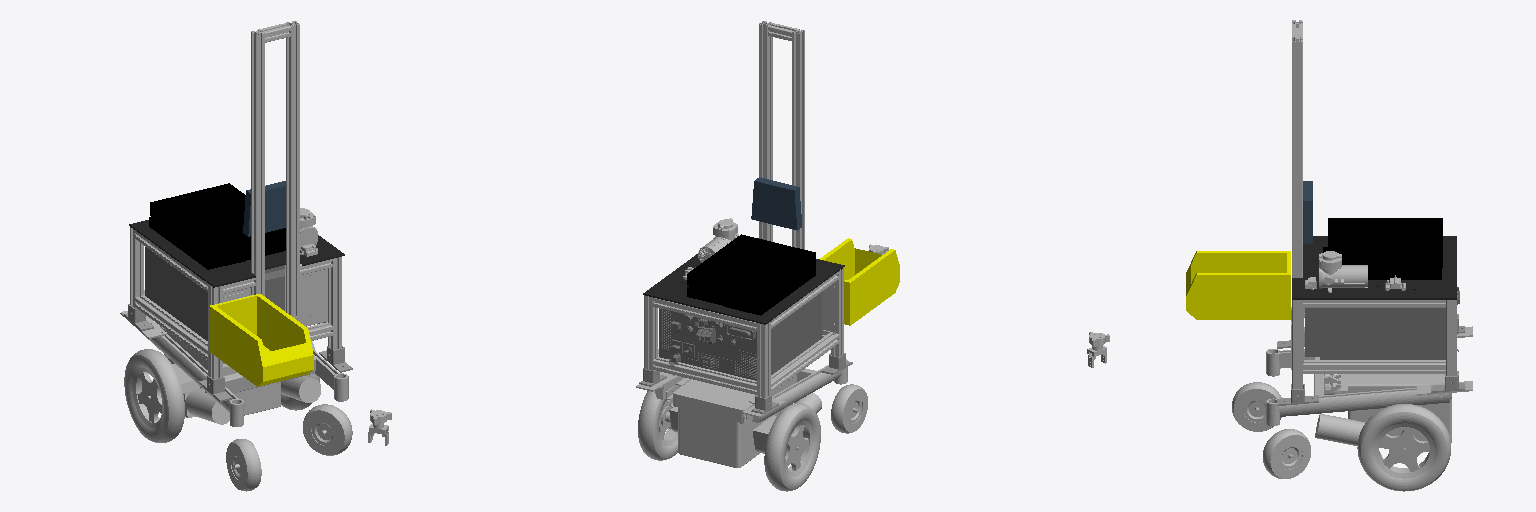
--- What the picture shows (computed from the rendered views, not written in the file) ---
The picture shows the robot from 3 angles, left to right: view 1: azimuth 30°, elevation 25°; view 2: azimuth 150°, elevation 25°; view 3: azimuth 270°, elevation 25°; orthographic projection.
Robot: abby — 38 links, 37 joints (6 revolute, 6 continuous, 2 prismatic, 23 fixed); root link frame1; default pose: all joints at 0 but 2 set to mid-range because 0 is outside their limits (gripper_jaw_1 = -0.0345, gripper_jaw_2 = -0.0345).
Links seen in each view (by area): view 1: frame1, bin, PC1, frame_solid:11, r_drive wheel1, IRC5_Compact1, top_plate1, l_caster_wheel1, r_caster_wheel1, router1, compressor1; view 2: frame1, frame_solid:11, IRC5_Compact1, PC1, r_drive wheel1, bin, top_plate1, router1, l_drive_wheel1, r_caster_wheel1, compressor1; view 3: frame1, frame_solid:11, IRC5_Compact1, bin, PC1, l_drive_wheel1, top_plate1, l_caster_wheel1, r_caster_wheel1, compressor1, router1.
Boxes of the visible links, x1=… form: frame1: x1=130, y1=21, x2=341, y2=378; bin: x1=209, y1=294, x2=313, y2=386; PC1: x1=149, y1=183, x2=285, y2=269; frame_solid:11: x1=144, y1=322, x2=348, y2=426; r_drive wheel1: x1=124, y1=349, x2=184, y2=442; IRC5_Compact1: x1=145, y1=247, x2=314, y2=340; top_plate1: x1=129, y1=220, x2=344, y2=287; l_caster_wheel1: x1=303, y1=404, x2=352, y2=455; r_caster_wheel1: x1=226, y1=439, x2=261, y2=491; router1: x1=243, y1=181, x2=285, y2=236; compressor1: x1=300, y1=208, x2=317, y2=249; frame1: x1=644, y1=21, x2=843, y2=397; frame_solid:11: x1=655, y1=359, x2=847, y2=467; IRC5_Compact1: x1=659, y1=292, x2=821, y2=380; PC1: x1=687, y1=234, x2=815, y2=315; r_drive wheel1: x1=764, y1=403, x2=820, y2=491; bin: x1=820, y1=238, x2=899, y2=325; top_plate1: x1=643, y1=254, x2=844, y2=324; router1: x1=751, y1=177, x2=801, y2=230; l_drive_wheel1: x1=638, y1=391, x2=677, y2=460; r_caster_wheel1: x1=831, y1=384, x2=867, y2=433; compressor1: x1=698, y1=218, x2=738, y2=262; frame1: x1=1291, y1=20, x2=1456, y2=395; frame_solid:11: x1=1266, y1=349, x2=1451, y2=451; IRC5_Compact1: x1=1305, y1=287, x2=1459, y2=359; bin: x1=1186, y1=251, x2=1290, y2=319; PC1: x1=1323, y1=218, x2=1442, y2=279; l_drive_wheel1: x1=1357, y1=404, x2=1450, y2=491; top_plate1: x1=1292, y1=236, x2=1456, y2=299; l_caster_wheel1: x1=1263, y1=429, x2=1310, y2=478; r_caster_wheel1: x1=1232, y1=382, x2=1281, y2=431; compressor1: x1=1319, y1=251, x2=1367, y2=292; router1: x1=1303, y1=181, x2=1312, y2=243.
Bounding box of the posed robot: 0.6308 × 1.41 × 1.72 m (x, y, z).
23 mesh visuals loaded from 29 distinct referenced files (17 binary STL); not drawn: 14 (reference not matched to a file when rendering).

The robot description file, URDF, robot "abby":
<?xml version="1.0" ?>
<!-- =================================================================================== -->
<!-- |    This document was autogenerated by xacro from abby_urdf.xacro                | -->
<!-- |    EDITING THIS FILE BY HAND IS NOT RECOMMENDED                                 | -->
<!-- =================================================================================== -->
<!-- =================================================================================== -->
<!-- |    This document was autogenerated by xacro from abby.xacro                     | -->
<!-- |    EDITING THIS FILE BY HAND IS NOT RECOMMENDED                                 | -->
<!-- =================================================================================== -->
<robot name="abby" xmlns:controller="http://playerstage.sourceforge.net/gazebo/xmlschema/#controller" xmlns:interface="http://playerstage.sourceforge.net/gazebo/xmlschema/#interface" xmlns:sensor="http://playerstage.sourceforge.net/gazebo/xmlschema/#sensor" xmlns:xacro="http://ros.org/wiki/xacro">
  <link name="irb_120_base_link">
    <visual>
      <geometry>
        <mesh filename="package://abb_common/meshes/irb_120/visual/base_link.stl" scale="0.0254 0.0254 0.0254"/>
      </geometry>
      <origin rpy="0 0 0" xyz="0 0 0"/>
      <material name="abb_orange">
        <color rgba="1 0.43 0 1"/>
      </material>
    </visual>
    <collision>
      <geometry>
        <mesh filename="package://abb_common/meshes/irb_120/collision/base_link.stl" scale="0.0254 0.0254 0.0254"/>
      </geometry>
      <origin rpy="0 0 0" xyz="0 0 0"/>
    </collision>
  </link>
  <link name="irb_120_link_1">
    <visual>
      <geometry>
        <mesh filename="package://abb_common/meshes/irb_120/visual/link_1.stl" scale="0.0254 0.0254 0.0254"/>
      </geometry>
      <origin rpy="0 0 0" xyz="0 0 0"/>
      <material name="abb_orange">
        <color rgba="1 0.43 0 1"/>
      </material>
    </visual>
    <collision>
      <geometry>
        <mesh filename="package://abb_common/meshes/irb_120/collision/link_1.stl" scale="0.0254 0.0254 0.0254"/>
      </geometry>
      <origin rpy="0 0 0" xyz="0 0 0"/>
    </collision>
  </link>
  <link name="irb_120_link_2">
    <visual>
      <geometry>
        <mesh filename="package://abb_common/meshes/irb_120/visual/link_2.stl" scale="0.0254 0.0254 0.0254"/>
      </geometry>
      <origin rpy="0 0 0" xyz="0 0.269999754796 0.0574996276953"/>
      <material name="abb_orange">
        <color rgba="1 0.43 0 1"/>
      </material>
    </visual>
    <collision>
      <geometry>
        <mesh filename="package://abb_common/meshes/irb_120/collision/link_2.stl" scale="0.0254 0.0254 0.0254"/>
      </geometry>
      <origin rpy="0 0 0" xyz="0 0.269999754796 0.0574996276953"/>
    </collision>
  </link>
  <link name="irb_120_link_3">
    <visual>
      <geometry>
        <mesh filename="package://abb_common/meshes/irb_120/visual/link_3.stl" scale="0.0254 0.0254 0.0254"/>
      </geometry>
      <origin rpy="0 0 0" xyz="0.071952848745 -0.0661526901756 0"/>
      <material name="abb_orange">
        <color rgba="1 0.43 0 1"/>
      </material>
    </visual>
    <collision>
      <geometry>
        <mesh filename="package://abb_common/meshes/irb_120/collision/link_3.stl" scale="0.0254 0.0254 0.0254"/>
      </geometry>
      <origin rpy="0 0 0" xyz="0.071952848745 -0.0661526901756 0"/>
    </collision>
  </link>
  <link name="irb_120_link_4">
    <visual>
      <geometry>
        <mesh filename="package://abb_common/meshes/irb_120/visual/link_4.stl" scale="0.0254 0.0254 0.0254"/>
      </geometry>
      <origin rpy="0 0 0" xyz="0.302187012 0.00151561224702 -0.000313229561613"/>
      <material name="abb_orange">
        <color rgba="1 0.43 0 1"/>
      </material>
    </visual>
    <collision>
      <geometry>
        <mesh filename="package://abb_common/meshes/irb_120/collision/link_4.stl" scale="0.0254 0.0254 0.0254"/>
      </geometry>
      <origin rpy="0 0 0" xyz="0.302187012 0.00151561224702 0"/>
    </collision>
  </link>
  <link name="irb_120_link_5">
    <visual>
      <geometry>
        <mesh filename="package://abb_common/meshes/irb_120/visual/link_5.stl" scale="0.0254 0.0254 0.0254"/>
      </geometry>
      <origin rpy="0 0 0" xyz="-0.301998488439 -0.629998750685 0"/>
      <material name="abb_orange">
        <color rgba="1 0.43 0 1"/>
      </material>
    </visual>
    <collision>
      <geometry>
        <mesh filename="package://abb_common/meshes/irb_120/collision/link_5.stl" scale="0.0254 0.0254 0.0254"/>
      </geometry>
      <origin rpy="0 0 0" xyz="-0.301998488439 -0.629998750685 0"/>
    </collision>
  </link>
  <link name="irb_120_link_6">
    <visual>
      <geometry>
        <mesh filename="package://abb_common/meshes/irb_120/visual/link_6.stl" scale="0.0254 0.0254 0.0254"/>
      </geometry>
      <origin rpy="0 0 0" xyz="0 0 -0.0130000906507"/>
      <material name="abb_black">
        <color rgba="0 0 0 1"/>
      </material>
    </visual>
    <collision>
      <geometry>
        <mesh filename="package://abb_common/meshes/irb_120/collision/link_6.stl" scale="0.0254 0.0254 0.0254"/>
      </geometry>
      <origin rpy="0 0 0" xyz="0 0 -0.0130000906507"/>
    </collision>
  </link>
  <joint name="joint1" type="revolute">
    <parent link="irb_120_base_link"/>
    <child link="irb_120_link_1"/>
    <limit effort="300" lower="-2.88" upper="2.88" velocity="4.36"/>
    <axis xyz="0 1 0"/>
    <origin rpy="-3.14159265359 3.14159265359 3.14159265359" xyz="0 0 0"/>
  </joint>
  <joint name="joint2" type="revolute">
    <parent link="irb_120_link_1"/>
    <child link="irb_120_link_2"/>
    <limit effort="300" lower="-1.92" upper="1.92" velocity="4.36"/>
    <axis xyz="0 0 1"/>
    <origin rpy="3.14159265359 0 3.14159265359" xyz="0 0.290 0"/>
  </joint>
  <joint name="joint3" type="revolute">
    <parent link="irb_120_link_2"/>
    <child link="irb_120_link_3"/>
    <limit effort="300" lower="-1.575" upper="1.23" velocity="4.36"/>
    <axis xyz="0 0 -1"/>
    <origin rpy="3.14159265359 0 3.14159265359" xyz="0 0.270 0"/>
  </joint>
  <joint name="joint4" type="revolute">
    <parent link="irb_120_link_3"/>
    <child link="irb_120_link_4"/>
    <limit effort="300" lower="-2.80" upper="2.80" velocity="5.58"/>
    <axis xyz="1 0 0"/>
    <origin rpy="0 0 0" xyz="0 0.070 0"/>
  </joint>
  <joint name="joint5" type="revolute">
    <parent link="irb_120_link_4"/>
    <child link="irb_120_link_5"/>
    <limit effort="300" lower="-2.10" upper="2.10" velocity="5.58"/>
    <axis xyz="0 0 -1"/>
    <origin rpy="0 0 0" xyz="0.302 0 0"/>
  </joint>
  <joint name="joint6" type="revolute">
    <parent link="irb_120_link_5"/>
    <child link="irb_120_link_6"/>
    <limit effort="300" lower="-6.985" upper="6.985" velocity="7.33"/>
    <axis xyz="0 0 1"/>
    <origin rpy="-1.5707961734 0 -1.57079621992" xyz="0.072 0 0"/>
  </joint>
  <joint name="base_camera_joint" type="fixed">
    <origin rpy="0 0.8901 -1.570795" xyz="0.04464 -0.59 1.491"/>
    <parent link="frame1"/>
    <origin rpy="0 0 0" xyz="0 0 0"/>
    <child link="camera_link"/>
  </joint>
  <link name="camera_link">
    <inertial>
      <mass value="0.01"/>
      <origin xyz="0 0 0"/>
      <inertia ixx="0.001" ixy="0.0" ixz="0.0" iyy="0.001" iyz="0.0" izz="0.001"/>
    </inertial>
    <visual>
      <origin rpy="0 0 0" xyz=" 0 0 0 "/>
      <geometry>
        <mesh filename="package://cwru_description/meshes/kinect.dae"/>
      </geometry>
    </visual>
    <collision>
      <origin rpy="0 0 0" xyz="0.0 0.0 0.0"/>
      <geometry>
        <box size="0.0730 .2760 0.0720"/>
      </geometry>
    </collision>
  </link>
  <joint name="base_laser_joint" type="fixed">
    <origin rpy="1.5707959092 0 -3.14159265358" xyz="-0.0255468119868 -0.474758386705 0.311455920061"/>
    <parent link="frame1"/>
    <origin rpy="0 0 0" xyz="0 0 0"/>
    <child link="SICK_LMS291"/>
  </joint>
  <link name="SICK_LMS291">
    <visual>
      <geometry>
        <mesh filename="package://cwru_description/meshes/sick_lms291.stl" scale="0.0254 0.0254 0.0254"/>
      </geometry>
      <origin rpy="0 0 0" xyz="-0.0683999139953 -0.00245779587475 -0.0929987962566"/>
      <material name="SICK_LMS2911_color">
        <color rgba="0.752941 0.752941 0.752941 1"/>
      </material>
    </visual>
    <inertial>
      <mass value="3.71737544502"/>
      <inertia ixx="0.0174805834039" ixy="-4.4195210288e-07" ixz="4.1599227461e-07" iyy="0.0127643577208" iyz="0.00072853444335" izz="0.0175041992098"/>
      <origin rpy="0 0 0" xyz="-0.0684016920036 0.0653465146418 -0.0708751847642"/>
    </inertial>
    <collision>
      <geometry>
        <mesh filename="package://cwru_description/meshes/sick_lms291.stl" scale="0.0254 0.0254 0.0254"/>
      </geometry>
      <origin rpy="0 0 0" xyz="-0.0683999139953 -0.00245779587475 -0.0929987962566"/>
    </collision>
  </link>
  <link name="base_laser1_link">
    <inertial>
      <mass value="0.01"/>
      <origin xyz="0 0 0"/>
      <inertia ixx="0.001" ixy="0.0" ixz="0.0" iyy="0.001" iyz="0.0" izz="0.001"/>
    </inertial>
  </link>
  <joint name="SICK_laser_frame_joint" type="fixed">
    <origin rpy="1.266 1.571 2.837" xyz="-0.0683999139953 0.035 -0.0273"/>
    <parent link="SICK_LMS291"/>
    <child link="base_laser1_link"/>
  </joint>
  <link name="frame1">
    <visual>
      <geometry>
        <mesh filename="package://abby_description/meshes/al_frame_iam_3826baa4.stl" scale="0.0254 0.0254 0.0254"/>
      </geometry>
      <origin rpy="0 0 0" xyz="0.0446356739978 0.177065647653 -0.0893087163603"/>
      <material name="frame1_color">
        <color rgba="0.752941 0.752941 0.752941 1"/>
      </material>
    </visual>
    <inertial>
      <mass value="12.7774249075"/>
      <inertia ixx="2.11995607184" ixy="-0.0128393605839" ixz="-0.0068818565379" iyy="1.84586933127" iyz="0.34872380742" izz="1.11710077832"/>
      <origin rpy="0 0 0" xyz="0.0382793240557 -0.271251963735 0.649589084908"/>
    </inertial>
    <collision>
      <geometry>
        <mesh filename="package://abby_description/meshes/al_frame_iam_3826baa4.stl" scale="0.0254 0.0254 0.0254"/>
      </geometry>
      <origin rpy="0 0 0" xyz="0.0446356739978 0.177065647653 -0.0893087163603"/>
    </collision>
  </link>
  <link name="f_r_frame_bracket1">
    <visual>
      <geometry>
        <mesh filename="package://abby_description/meshes/frame bracket_ipt_f5a4f28d.stl" scale="0.0254 0.0254 0.0254"/>
      </geometry>
      <origin rpy="0 0 0" xyz="-0.0946635865578 -0.0205552039632 -0.424782665556"/>
      <material name="f_r_frame_bracket1_color">
        <color rgba="0.639216 0.639216 0.639216 1"/>
      </material>
    </visual>
    <inertial>
      <mass value="0.71440798275"/>
      <inertia ixx="0.00043051877529" ixy="0.0" ixz="-1.18150140291e-05" iyy="0.00109167940213" iyz="0.0" izz="0.00105983757016"/>
      <origin rpy="0 0 0" xyz="-0.0175668955453 0.00484479603152 -0.408054413923"/>
    </inertial>
    <collision>
      <geometry>
        <mesh filename="package://abby_description/meshes/frame bracket_ipt_f5a4f28d.stl" scale="0.0254 0.0254 0.0254"/>
      </geometry>
      <origin rpy="0 0 0" xyz="-0.0946635865578 -0.0205552039632 -0.424782665556"/>
    </collision>
  </link>
  <joint name="frame--f_r_frame_bracket1" type="fixed">
    <parent link="frame1"/>
    <child link="f_r_frame_bracket1"/>
    <origin rpy="0 -0.0938814541614 1.5707963268" xyz="-0.197196963951 -0.46840807491 0.660027160644"/>
  </joint>
  <link name="f_l_frame_bracket1">
    <visual>
      <geometry>
        <mesh filename="package://abby_description/meshes/frame bracket_ipt_f5a4f28d.stl" scale="0.0254 0.0254 0.0254"/>
      </geometry>
      <origin rpy="0 0 0" xyz="-0.050800692836 -0.0508000000121 -0.00634958439213"/>
      <material name="f_l_frame_bracket1_color">
        <color rgba="0.639216 0.639216 0.639216 1"/>
      </material>
    </visual>
    <inertial>
      <mass value="0.71440798275"/>
      <inertia ixx="0.00043051877529" ixy="0.0" ixz="-1.18150140291e-05" iyy="0.00109167940213" iyz="0.0" izz="0.00105983757016"/>
      <origin rpy="0 0 0" xyz="0.026295998169 -0.025399999994 0.0103786672398"/>
    </inertial>
    <collision>
      <geometry>
        <mesh filename="package://abby_description/meshes/frame bracket_ipt_f5a4f28d.stl" scale="0.0254 0.0254 0.0254"/>
      </geometry>
      <origin rpy="0 0 0" xyz="-0.050800692836 -0.0508000000121 -0.00634958439213"/>
    </collision>
  </link>
  <joint name="f_l_frame_bracket--f_r_frame_bracket1" type="fixed">
    <parent link="f_r_frame_bracket1"/>
    <child link="f_l_frame_bracket1"/>
    <origin rpy="0 0 0" xyz="-0.0438628937327 -0.464082383966 -0.418433081198"/>
  </joint>
  <link name="f_l_frame_plate1">
    <visual>
      <geometry>
        <mesh filename="package://abby_description/meshes/front frame plate_ipt_3e5bfe16.stl" scale="0.0254 0.0254 0.0254"/>
      </geometry>
      <origin rpy="0 0 0" xyz="0 0 0"/>
      <material name="f_l_frame_plate1_color">
        <color rgba="0.752941 0.752941 0.752941 1"/>
      </material>
    </visual>
    <inertial>
      <mass value="0.072583397455"/>
      <inertia ixx="0.000139975007751" ixy="0.0" ixz="0.0" iyy="3.5475798236e-05" iyz="0.0" izz="0.000174962980108"/>
      <origin rpy="0 0 0" xyz="0.0380034800186 0.0762017426097 0.00317605933453"/>
    </inertial>
    <collision>
      <geometry>
        <mesh filename="package://abby_description/meshes/front frame plate_ipt_3e5bfe16.stl" scale="0.0254 0.0254 0.0254"/>
      </geometry>
      <origin rpy="0 0 0" xyz="0 0 0"/>
    </collision>
  </link>
  <joint name="f_l_frame_plate--f_l_frame_bracket1" type="fixed">
    <parent link="f_l_frame_bracket1"/>
    <child link="f_l_frame_plate1"/>
    <origin rpy="-3.14159265359 0 1.57079632679" xyz="-0.050800692836 -0.0508000000121 -0.00634958439213"/>
  </joint>
  <link name="f_r_frame_plate1">
    <visual>
      <geometry>
        <mesh filename="package://abby_description/meshes/front frame plate_ipt_3e5bfe16.stl" scale="0.0254 0.0254 0.0254"/>
      </geometry>
      <origin rpy="0 0 0" xyz="-0.0381000000045 -0.0762009322898 -0.00634941359797"/>
      <material name="f_r_frame_plate1_color">
        <color rgba="0.752941 0.752941 0.752941 1"/>
      </material>
    </visual>
    <inertial>
      <mass value="0.072583397455"/>
      <inertia ixx="0.000139975007751" ixy="0.0" ixz="0.0" iyy="3.5475798236e-05" iyz="0.0" izz="0.000174962980108"/>
      <origin rpy="0 0 0" xyz="-9.52500002381e-05 9.97890829302e-07 -0.00317559036918"/>
    </inertial>
    <collision>
      <geometry>
        <mesh filename="package://abby_description/meshes/front frame plate_ipt_3e5bfe16.stl" scale="0.0254 0.0254 0.0254"/>
      </geometry>
      <origin rpy="0 0 0" xyz="-0.0381000000045 -0.0762009322898 -0.00634941359797"/>
    </collision>
  </link>
  <joint name="f_r_frame_plate--f_r_frame_bracket1" type="fixed">
    <parent link="f_r_frame_bracket1"/>
    <child link="f_r_frame_plate1"/>
    <origin rpy="0 0 -1.57079632679" xyz="-0.0184628418291 -0.00785520396718 -0.424783134521"/>
  </joint>
  <link name="b_r_frame_bracket1">
    <visual>
      <geometry>
        <mesh filename="package://abby_description/meshes/short frame bracket_ipt_f5a4f28d.stl" scale="0.0254 0.0254 0.0254"/>
      </geometry>
      <origin rpy="0 0 0" xyz="-0.0774480173821 -0.0263550400145 -0.00822489041407"/>
      <material name="b_r_frame_bracket1_color">
        <color rgba="0.639216 0.639216 0.639216 1"/>
      </material>
    </visual>
    <inertial>
      <mass value="0.71440798275"/>
      <inertia ixx="0.00044432538895" ixy="0.0" ixz="-8.3387205787e-05" iyy="0.00086832128551" iyz="0.0" izz="0.00083243813657"/>
      <origin rpy="0 0 0" xyz="-0.00691246125573 -0.000955040002614 0.00995368760594"/>
    </inertial>
    <collision>
      <geometry>
        <mesh filename="package://abby_description/meshes/short frame bracket_ipt_f5a4f28d.stl" scale="0.0254 0.0254 0.0254"/>
      </geometry>
      <origin rpy="0 0 0" xyz="-0.0774480173821 -0.0263550400145 -0.00822489041407"/>
    </collision>
  </link>
  <joint name="frame--b_r_frame_bracket1" type="fixed">
    <parent link="frame1"/>
    <child link="b_r_frame_bracket1"/>
    <origin rpy="0 -0.0938814541614 1.57079632654" xyz="-0.202996799965 0.113567247403 0.29642350598"/>
  </joint>
  <link name="b_r_frame_plate1">
    <visual>
      <geometry>
        <mesh filename="package://abby_description/meshes/back frame plate_ipt_475e4947.stl" scale="0.0254 0.0254 0.0254"/>
      </geometry>
      <origin rpy="0 0 0" xyz="-0.0254000000255 -0.126998971214 1.58112569598e-06"/>
      <material name="b_r_frame_plate1_color">
        <color rgba="0.752941 0.752941 0.752941 1"/>
      </material>
    </visual>
    <inertial>
      <mass value="0.0971640215777"/>
      <inertia ixx="0.0003344255636" ixy="8.4155085275e-07" ixz="0.0" iyy="4.7517225512e-05" iyz="0.0" izz="0.00038129137915"/>
      <origin rpy="0 0 0" xyz="0.0126431039946 -0.025550836608 0.00317565745359"/>
    </inertial>
    <collision>
      <geometry>
        <mesh filename="package://abby_description/meshes/back frame plate_ipt_475e4947.stl" scale="0.0254 0.0254 0.0254"/>
      </geometry>
      <origin rpy="0 0 0" xyz="-0.0254000000255 -0.126998971214 1.58112569598e-06"/>
    </collision>
  </link>
  <joint name="b_r_frame_plate--b_r_frame_bracket1" type="fixed">
    <parent link="b_r_frame_bracket1"/>
    <child link="b_r_frame_plate1"/>
    <origin rpy="3.14159265359 0 -1.57079632679" xyz="-0.0520471238425 -0.000955040009423 -0.00822349691669"/>
  </joint>
  <link name="IRC5_Compact1">
    <visual>
      <geometry>
        <mesh filename="package://abby_description/meshes/irc5_compact_ipt_c844072c.stl" scale="0.0254 0.0254 0.0254"/>
      </geometry>
      <origin rpy="0 0 0" xyz="-0.000849884100615 0.0283509919265 -0.462400284136"/>
      <material name="IRC5_Compact1_color">
        <color rgba="0.498039 0.498039 0.498039 1"/>
      </material>
    </visual>
    <inertial>
      <mass value="28.440241599"/>
      <inertia ixx="0.75499468089" ixy="-0.00122306756239" ixz="-0.00124304296401" iyy="1.08063235538" iyz="-0.0064925615368" izz="0.61093241216"/>
      <origin rpy="0 0 0" xyz="-0.225686620068 0.151686511222 -0.249482492333"/>
    </inertial>
    <collision>
      <geometry>
        <mesh filename="package://abby_description/meshes/irc5_compact_ipt_c844072c.stl" scale="0.0254 0.0254 0.0254"/>
      </geometry>
      <origin rpy="0 0 0" xyz="-0.000849884100615 0.0283509919265 -0.462400284136"/>
    </collision>
  </link>
  <joint name="frame--IRC5_Compact1" type="fixed">
    <parent link="frame1"/>
    <child link="IRC5_Compact1"/>
    <origin rpy="1.5707959092 0 3.14159265334" xyz="-0.18299683996 0.0935673788127 0.353829950251"/>
  </joint>
  <link name="router1">
    <visual>
      <geometry>
        <mesh filename="package://abby_description/meshes/router keepout_ipt_2b3ba7b4.stl" scale="0.0254 0.0254 0.0254"/>
      </geometry>
      <origin rpy="0 0 0" xyz="0.0783000719655 0.725341498268 -1.11194969221e-06"/>
      <material name="router1_color">
        <color rgba="0.25098 0.321569 0.392157 1"/>
      </material>
    </visual>
    <inertial>
      <mass value="0.28349523125"/>
      <inertia ixx="0.00067729370465" ixy="0.0" ixz="0.0" iyy="0.0008954399563" iyz="0.0" izz="0.00150414540089"/>
      <origin rpy="0 0 0" xyz="0.0783000719663 0.727175853591 0.0190494073449"/>
    </inertial>
    <collision>
      <geometry>
        <mesh filename="package://abby_description/meshes/router keepout_ipt_2b3ba7b4.stl" scale="0.0254 0.0254 0.0254"/>
      </geometry>
      <origin rpy="0 0 0" xyz="0.0783000719655 0.725341498268 -1.11194969221e-06"/>
    </collision>
  </link>
  <joint name="frame--router1" type="fixed">
    <parent link="frame1"/>
    <child link="router1"/>
    <origin rpy="-1.5707959092 0 0" xyz="-0.0354469698523 -0.430316747951 1.61002981286"/>
  </joint>
  <link name="base_plate1">
    <visual>
      <geometry>
        <mesh filename="package://abby_description/meshes/base plate_iam_348b8023.stl" scale="0.0254 0.0254 0.0254"/>
      </geometry>
      <origin rpy="0 0 0" xyz="-0.296284250178 -0.709693779926 -0.581261979343"/>
      <material name="base_plate1_color">
        <color rgba="0.752941 0.752941 0.752941 1"/>
      </material>
    </visual>
    <inertial>
      <mass value="11.253309185"/>
      <inertia ixx="0.192702049774" ixy="-0.0128927375727" ixz="-0.00057983680454" iyy="0.235790506928" iyz="0.002976996201" izz="0.41200655867"/>
      <origin rpy="0 0 0" xyz="-0.259429264405 -0.197794168785 -0.0311541484255"/>
    </inertial>
    <collision>
      <geometry>
        <mesh filename="package://abby_description/meshes/base plate_iam_348b8023.stl" scale="0.0254 0.0254 0.0254"/>
      </geometry>
      <origin rpy="0 0 0" xyz="-0.296284250178 -0.709693779926 -0.581261979343"/>
    </collision>
  </link>
  <joint name="frame--base_plate1" type="fixed">
    <parent link="frame1"/>
    <child link="base_plate1"/>
    <origin rpy="0 0 1.5707963268" xyz="-0.182996839959 0.0950674391444 0.365829741316"/>
  </joint>
  <link name="top_plate1">
    <visual>
      <geometry>
        <mesh filename="package://abby_description/meshes/top plate_ipt_9041f1eb.stl" scale="0.0254 0.0254 0.0254"/>
      </geometry>
      <origin rpy="0 0 0" xyz="-0.039999919998 -0.0370003177082 -0.00635046315153"/>
      <material name="top_plate1_color">
        <color rgba="0.2 0.2 0.2 1"/>
      </material>
    </visual>
    <inertial>
      <mass value="2.41906254029"/>
      <inertia ixx="0.070476646621" ixy="-3.2774173452e-05" ixz="0.0" iyy="0.05993791034" iyz="0.0" izz="0.130398461926"/>
      <origin rpy="0 0 0" xyz="0.229580439988 0.257942378411 -0.00317445298106"/>
    </inertial>
    <collision>
      <geometry>
        <mesh filename="package://abby_description/meshes/top plate_ipt_9041f1eb.stl" scale="0.0254 0.0254 0.0254"/>
      </geometry>
      <origin rpy="0 0 0" xyz="-0.039999919998 -0.0370003177082 -0.00635046315153"/>
    </collision>
  </link>
  <joint name="frame--top_plate1" type="fixed">
    <parent link="frame1"/>
    <child link="top_plate1"/>
    <origin rpy="-3.14159265359 0 0" xyz="-0.182996839929 0.0965675138916 0.656087848989"/>
  </joint>
  <link name="main_breaker1">
    <visual>
      <geometry>
        <mesh filename="package://abby_description/meshes/breaker_iam_746c8f85.stl" scale="0.0254 0.0254 0.0254"/>
      </geometry>
      <origin rpy="0 0 0" xyz="-0.0160837880011 -0.0289106364367 0.00508056290676"/>
      <material name="main_breaker1_color">
        <color rgba="0.752941 0.752941 0.752941 1"/>
      </material>
    </visual>
    <inertial>
      <mass value="0.0936536702263"/>
      <inertia ixx="3.6925814571e-05" ixy="-4.3535021216e-06" ixz="1.05382973255e-07" iyy="2.44166070505e-05" iyz="-2.55254379072e-12" izz="4.8649438065e-05"/>
      <origin rpy="0 0 0" xyz="-0.0161287460005 -0.0289109627394 0.0153385723229"/>
    </inertial>
    <collision>
      <geometry>
        <mesh filename="package://abby_description/meshes/breaker_iam_746c8f85.stl" scale="0.0254 0.0254 0.0254"/>
      </geometry>
      <origin rpy="0 0 0" xyz="-0.0160837880011 -0.0289106364367 0.00508056290676"/>
    </collision>
  </link>
  <joint name="main_breaker--top_plate1" type="fixed">
    <parent link="top_plate1"/>
    <child link="main_breaker1"/>
    <origin rpy="3.14159265359 0 0" xyz="0.426298867993 0.159767684312 -0.00635046455001"/>
  </joint>
  <link name="compressor1">
    <visual>
      <geometry>
        <mesh filename="package://abby_description/meshes/compressor_iam_e870b89.stl" scale="0.0254 0.0254 0.0254"/>
      </geometry>
      <origin rpy="0 0 0" xyz="0.217095026073 0.0541649919903 0.058507418554"/>
      <material name="compressor1_color">
        <color rgba="0.752941 0.752941 0.752941 1"/>
      </material>
    </visual>
    <inertial>
      <mass value="2.12621423437"/>
      <inertia ixx="-0.0061140063136" ixy="0.0073422915937" ixz="0.0121866630191" iyy="-0.0247184035886" iyz="0.0043080263318" izz="-0.0223276763534"/>
      <origin rpy="0 0 0" xyz="0.0555649192101 -0.000189230004887 -0.0360164073274"/>
    </inertial>
    <collision>
      <geometry>
        <mesh filename="package://abby_description/meshes/compressor_iam_e870b89.stl" scale="0.0254 0.0254 0.0254"/>
      </geometry>
      <origin rpy="0 0 0" xyz="0.217095026073 0.0541649919903 0.058507418554"/>
    </collision>
  </link>
  <joint name="compressor--top_plate1" type="fixed">
    <parent link="top_plate1"/>
    <child link="compressor1"/>
    <origin rpy="2.35090778551e-05 1.5707959092 1.57081983614" xyz="0.40450007998 0.426550996313 -0.00635023492284"/>
  </joint>
  <link name="PC1">
    <visual>
      <geometry>
        <mesh filename="package://abby_description/meshes/pc_ipt_a7ade237.stl" scale="0.0254 0.0254 0.0254"/>
      </geometry>
      <origin rpy="0 0 0" xyz="0 -0.095249567657 -1.9383533062e-07"/>
      <material name="PC1_color">
        <color rgba="0 0 0 1"/>
      </material>
    </visual>
    <inertial>
      <mass value="13.0796535036"/>
      <inertia ixx="0.199045542023" ixy="0.000104306361732" ixz="0.00061701926176" iyy="0.3078833877" iyz="0.000148148651798" izz="0.128774326576"/>
      <origin rpy="0 0 0" xyz="0.164833477815 -0.0476494270341 0.207873207523"/>
    </inertial>
    <collision>
      <geometry>
        <mesh filename="package://abby_description/meshes/pc_ipt_a7ade237.stl" scale="0.0254 0.0254 0.0254"/>
      </geometry>
      <origin rpy="0 0 0" xyz="0 -0.095249567657 -1.9383533062e-07"/>
    </collision>
  </link>
  <joint name="PC--top_plate1" type="fixed">
    <parent link="top_plate1"/>
    <child link="PC1"/>
    <origin rpy="1.57079674439 0 0" xyz="0.0108000799797 0.436074033464 -0.00635125529283"/>
  </joint>
  <link name="spike_relay1">
    <visual>
      <geometry>
        <mesh filename="package://abby_description/meshes/spike h_iam_f19c9874.stl" scale="0.0254 0.0254 0.0254"/>
      </geometry>
      <origin rpy="0 0 0" xyz="0.165495388905 -0.231988605905 -4.80033572003e-07"/>
      <material name="spike_relay1_color">
        <color rgba="0.752941 0.752941 0.752941 1"/>
      </material>
    </visual>
    <inertial>
      <mass value="0.02553552678"/>
      <inertia ixx="4.8431130863e-06" ixy="-7.8309953837e-09" ixz="-2.27668366993e-09" iyy="8.2511635883e-06" iyz="-1.99978761416e-07" izz="1.02136458377e-05"/>
      <origin rpy="0 0 0" xyz="0.16538182583 -0.230617385381 0.00965819617544"/>
    </inertial>
    <collision>
      <geometry>
        <mesh filename="package://abby_description/meshes/spike h_iam_f19c9874.stl" scale="0.0254 0.0254 0.0254"/>
      </geometry>
      <origin rpy="0 0 0" xyz="0.165495388905 -0.231988605905 -4.80033572003e-07"/>
    </collision>
  </link>
  <joint name="top_plate--spike_relay1" type="fixed">
    <parent link="top_plate1"/>
    <child link="spike_relay1"/>
    <origin rpy="3.14159264636 0 0.00520380555278" xyz="0.229875079988 0.264625478066 -0.00635030519039"/>
  </joint>
  <link name="b_l_frame_bracket1">
    <visual>
      <geometry>
        <mesh filename="package://abby_description/meshes/short frame bracket_ipt_f5a4f28d.stl" scale="0.0254 0.0254 0.0254"/>
      </geometry>
      <origin rpy="0 0 0" xyz="-0.0635428211507 -0.00444500001769 -0.0603982600527"/>
      <material name="b_l_frame_bracket1_color">
        <color rgba="0.639216 0.639216 0.639216 1"/>
      </material>
    </visual>
    <inertial>
      <mass value="0.71440798275"/>
      <inertia ixx="0.00044432538895" ixy="0.0" ixz="-8.3387205787e-05" iyy="0.00086832128551" iyz="0.0" izz="0.00083243813657"/>
      <origin rpy="0 0 0" xyz="0.00699273497077 0.020955000008 -0.0422196820327"/>
    </inertial>
    <collision>
      <geometry>
        <mesh filename="package://abby_description/meshes/short frame bracket_ipt_f5a4f28d.stl" scale="0.0254 0.0254 0.0254"/>
      </geometry>
      <origin rpy="0 0 0" xyz="-0.0635428211507 -0.00444500001769 -0.0603982600527"/>
    </collision>
  </link>
  <joint name="b_l_frame_bracket--frame1" type="fixed">
    <parent link="frame1"/>
    <child link="b_l_frame_bracket1"/>
    <origin rpy="0 -0.0938814541614 1.57079632635" xyz="0.313240420039 0.0948323645811 0.347063600205"/>
  </joint>
  <link name="b_l_frame_plate1">
    <visual>
      <geometry>
        <mesh filename="package://abby_description/meshes/back frame plate_ipt_475e4947.stl" scale="0.0254 0.0254 0.0254"/>
      </geometry>
      <origin rpy="0 0 0" xyz="0 0 0"/>
      <material name="b_l_frame_plate1_color">
        <color rgba="0.752941 0.752941 0.752941 1"/>
      </material>
    </visual>
    <inertial>
      <mass value="0.0971640215777"/>
      <inertia ixx="0.0003344255636" ixy="8.4155085275e-07" ixz="0.0" iyy="4.7517225512e-05" iyz="0.0" izz="0.00038129137915"/>
      <origin rpy="0 0 0" xyz="0.0380441199796 0.101448124476 0.00317600333501"/>
    </inertial>
    <collision>
      <geometry>
        <mesh filename="package://abby_description/meshes/back frame plate_ipt_475e4947.stl" scale="0.0254 0.0254 0.0254"/>
      </geometry>
      <origin rpy="0 0 0" xyz="0 0 0"/>
    </collision>
  </link>
  <joint name="b_l_frame_plate--b_l_frame_bracket1" type="fixed">
    <parent link="b_l_frame_bracket1"/>
    <child link="b_l_frame_plate1"/>
    <origin rpy="0 0 1.57079632699" xyz="0.0888570334677 -0.00444499995661 -0.0667485273456"/>
  </joint>
  <link name="frame_solid:11">
    <visual>
      <geometry>
        <mesh filename="package://abby_description/meshes/frame_solid_iam_8d469021.stl" scale="0.0254 0.0254 0.0254"/>
      </geometry>
      <origin rpy="0 0 0" xyz="-3.47155770013 -0.38147033036 2.30808809655"/>
      <material name="frame_solid:11_color">
        <color rgba="0.752941 0.752941 0.752941 1"/>
      </material>
    </visual>
    <inertial>
      <mass value="76.9265443978"/>
      <inertia ixx="-0.199581653007" ixy="-0.082679316884" ixz="0.0112391336768" iyy="2.03829571699" iyz="-0.249221082043" izz="-0.62699233072"/>
      <origin rpy="0 0 0" xyz="-0.250028710016 -0.128949655059 0.228101121891"/>
    </inertial>
    <collision>
      <geometry>
        <mesh filename="package://abby_description/meshes/frame_solid_iam_8d469021.stl" scale="0.0254 0.0254 0.0254"/>
      </geometry>
      <origin rpy="0 0 0" xyz="-3.47155770013 -0.38147033036 2.30808809655"/>
    </collision>
  </link>
  <joint name="b_l_frame_plate--frame_solid:11" type="fixed">
    <parent link="b_l_frame_plate1"/>
    <child link="frame_solid:11"/>
    <origin rpy="1.47691420527 0 -3.14159265334" xyz="0.0380441199796 0.101448124476 0.00317600333501"/>
  </joint>
  <link name="l_caster1">
    <visual>
      <geometry>
        <mesh filename="package://abby_description/meshes/caster_ipt_ca03a3d7.stl" scale="0.0254 0.0254 0.0254"/>
      </geometry>
      <origin rpy="0 0 0" xyz="8.42753967015e-07 -0.13652463702 -0.0253998728835"/>
      <material name="l_caster1_color">
        <color rgba="0 0 0 1"/>
      </material>
    </visual>
    <inertial>
      <mass value="0.141176996424"/>
      <inertia ixx="0.00051323847608" ixy="0.0" ixz="0.0" iyy="0.00026112292147" iyz="0.000151341028831" izz="0.00058482333902"/>
      <origin rpy="0 0 0" xyz="-2.95905491936e-07 -0.0595480601633 0.018131413861"/>
    </inertial>
    <collision>
      <geometry>
        <mesh filename="package://abby_description/meshes/caster_ipt_ca03a3d7.stl" scale="0.0254 0.0254 0.0254"/>
      </geometry>
      <origin rpy="0 0 0" xyz="8.42753967015e-07 -0.13652463702 -0.0253998728835"/>
    </collision>
  </link>
  <joint name="l_caster_joint" type="continuous">
    <parent link="frame_solid:11"/>
    <child link="l_caster1"/>
    <axis xyz="0 1 0"/>
    <origin rpy="3.14159154933 -0.529419117266 -3.1415922637" xyz="-0.016388080036 -0.149221796489 0.625818601504"/>
  </joint>
  <link name="l_caster_wheel1">
    <visual>
      <geometry>
        <mesh filename="package://abby_description/meshes/caster wheel_ipt_4784d7d8.stl" scale="0.0254 0.0254 0.0254"/>
      </geometry>
      <origin rpy="0 0 0" xyz="-1.18418908775e-06 -0.0380989161968 -1.67691861175e-06"/>
      <material name="l_caster_wheel1_color">
        <color rgba="0.752941 0.752941 0.752941 1"/>
      </material>
    </visual>
    <inertial>
      <mass value="1.4177347039"/>
      <inertia ixx="0.0034966317219" ixy="0.0" ixz="0.0" iyy="0.0063467697834" iyz="0.0" izz="0.0034966317219"/>
      <origin rpy="0 0 0" xyz="-1.18418908775e-06 -0.0380989161968 -1.67691861175e-06"/>
    </inertial>
    <collision>
      <geometry>
        <mesh filename="package://abby_description/meshes/caster wheel_ipt_4784d7d8.stl" scale="0.0254 0.0254 0.0254"/>
      </geometry>
      <origin rpy="0 0 0" xyz="-1.18418908775e-06 -0.0380989161968 -1.67691861175e-06"/>
    </collision>
  </link>
  <joint name="l_caster_wheel_joint" type="continuous">
    <parent link="l_caster1"/>
    <child link="l_caster_wheel1"/>
    <axis xyz="0 1 0"/>
    <origin rpy="6.29554520079e-07 -0.0978245101151 -1.57079646214" xyz="0.0374386651859 -0.136525432368 0.0571509283666"/>
  </joint>
  <link name="r_caster1">
    <visual>
      <geometry>
        <mesh filename="package://abby_description/meshes/caster_ipt_ca03a3d7.stl" scale="0.0254 0.0254 0.0254"/>
      </geometry>
      <origin rpy="0 0 0" xyz="-1.44488080778e-07 -0.136524926369 -0.0254000128924"/>
      <material name="r_caster1_color">
        <color rgba="0 0 0 1"/>
      </material>
    </visual>
    <inertial>
      <mass value="0.141176996424"/>
      <inertia ixx="0.00051323847608" ixy="0.0" ixz="0.0" iyy="0.00026112292147" iyz="0.000151341028831" izz="0.00058482333902"/>
      <origin rpy="0 0 0" xyz="1.20291708094e-07 -0.0595479590544 0.0181329136137"/>
    </inertial>
    <collision>
      <geometry>
        <mesh filename="package://abby_description/meshes/caster_ipt_ca03a3d7.stl" scale="0.0254 0.0254 0.0254"/>
      </geometry>
      <origin rpy="0 0 0" xyz="-1.44488080778e-07 -0.136524926369 -0.0254000128924"/>
    </collision>
  </link>
  <joint name="r_caster_joint" type="continuous">
    <parent link="frame_solid:11"/>
    <child link="r_caster1"/>
    <axis xyz="0 1 0"/>
    <origin rpy="0 -0.0645005439914 0" xyz="-0.446765426036 -0.149221796474 0.625818601482"/>
  </joint>
  <link name="r_caster_wheel1">
    <visual>
      <geometry>
        <mesh filename="package://abby_description/meshes/caster wheel_ipt_4784d7d8.stl" scale="0.0254 0.0254 0.0254"/>
      </geometry>
      <origin rpy="0 0 0" xyz="-1.43565576272e-06 -0.0380999206774 0"/>
      <material name="r_caster_wheel1_color">
        <color rgba="0.752941 0.752941 0.752941 1"/>
      </material>
    </visual>
    <inertial>
      <mass value="1.4177347039"/>
      <inertia ixx="0.0034966317219" ixy="0.0" ixz="0.0" iyy="0.0063467697834" iyz="0.0" izz="0.0034966317219"/>
      <origin rpy="0 0 0" xyz="-1.43565576272e-06 -0.0380999206774 0"/>
    </inertial>
    <collision>
      <geometry>
        <mesh filename="package://abby_description/meshes/caster wheel_ipt_4784d7d8.stl" scale="0.0254 0.0254 0.0254"/>
      </geometry>
      <origin rpy="0 0 0" xyz="-1.43565576272e-06 -0.0380999206774 0"/>
    </collision>
  </link>
  <joint name="r_caster_wheel_joint" type="continuous">
    <parent link="r_caster1"/>
    <child link="r_caster_wheel1"/>
    <axis xyz="0 1 0"/>
    <origin rpy="-2.44191411285e-07 0.632428512243 -1.570796684" xyz="0.0374395826544 -0.13652471423 0.0571493788518"/>
  </joint>
  <link name="l_drive_wheel1">
    <visual>
      <geometry>
        <mesh filename="package://abby_description/meshes/wheel_ipt_982fa4fe.stl" scale="0.0254 0.0254 0.0254"/>
      </geometry>
      <origin rpy="0 0 0" xyz="0 0 0"/>
      <material name="l_drive_wheel1_color">
        <color rgba="0.752941 0.752941 0.752941 1"/>
      </material>
    </visual>
    <inertial>
      <mass value="3.52668067675"/>
      <inertia ixx="0.032456077033" ixy="0.0" ixz="0.0" iyy="0.062503458919" iyz="0.0" izz="0.032456077033"/>
      <origin rpy="0 0 0" xyz="0 -0.00071882 0"/>
    </inertial>
    <collision>
      <geometry>
        <mesh filename="package://abby_description/meshes/wheel_ipt_982fa4fe.stl" scale="0.0254 0.0254 0.0254"/>
      </geometry>
      <origin rpy="0 0 0" xyz="0 0 0"/>
    </collision>
  </link>
  <joint name="l_drive_wheel_joint" type="continuous">
    <parent link="frame_solid:11"/>
    <child link="l_drive_wheel1"/>
    <axis xyz="0 -1 0"/>
    <origin rpy="0 -0.119809660819 1.57079632679" xyz="0.0466801199851 -0.217162738547 0.147715939724"/>
  </joint>
  <link name="r_drive wheel1">
    <visual>
      <geometry>
        <mesh filename="package://abby_description/meshes/wheel_ipt_982fa4fe.stl" scale="0.0254 0.0254 0.0254"/>
      </geometry>
      <origin rpy="0 0 0" xyz="0 0 0"/>
      <material name="r_drive wheel1_color">
        <color rgba="0.752941 0.752941 0.752941 1"/>
      </material>
    </visual>
    <inertial>
      <mass value="3.52668067675"/>
      <inertia ixx="0.032456077033" ixy="0.0" ixz="0.0" iyy="0.062503458919" iyz="0.0" izz="0.032456077033"/>
      <origin rpy="0 0 0" xyz="0 -0.000718058 0"/>
    </inertial>
    <collision>
      <geometry>
        <mesh filename="package://abby_description/meshes/wheel_ipt_982fa4fe.stl" scale="0.0254 0.0254 0.0254"/>
      </geometry>
      <origin rpy="0 0 0" xyz="0 0 0"/>
    </collision>
  </link>
  <joint name="r_drive_wheel_joint" type="continuous">
    <parent link="frame_solid:11"/>
    <child link="r_drive wheel1"/>
    <axis xyz="0 1 0"/>
    <origin rpy="0 -0.443332433305 -1.57079632679" xyz="-0.509833626015 -0.217162738527 0.147715939697"/>
  </joint>
  <link name="bin">
    <visual>
      <geometry>
        <mesh filename="package://abby_description/meshes/bin_ipt.stl" scale="0.0254 0.0254 0.0254"/>
      </geometry>
      <origin rpy="0 0 0" xyz="0 0 0"/>
      <material name="yellow bin plastic">
        <color rgba="0.98 0.98 0 1"/>
      </material>
    </visual>
    <inertial>
      <mass value="4.36697868587"/>
      <inertia ixx="0.044427271429" ixy="0.00203259222186" ixz="-1.69295186692e-05" iyy="0.100418971824" iyz="3.3400709269e-06" izz="0.080242528585"/>
      <origin rpy="0 0 0" xyz="0.17978882 -0.0977169394 0.104752255"/>
    </inertial>
    <collision>
      <geometry>
        <mesh filename="package://abby_description/meshes/bin_ipt.stl" scale="0.0254 0.0254 0.0254"/>
      </geometry>
      <origin rpy="0 0 0" xyz="0 0 0"/>
    </collision>
  </link>
  <joint name="frame-bin" type="fixed">
    <parent link="frame1"/>
    <child link="bin"/>
    <origin rpy="1.57079619722 0 -1.57079632679" xyz="-0.035 -0.474758386705 0.592669"/>
  </joint>
  <link name="gripper_body">
    <visual>
      <geometry>
        <mesh filename="package://abby_description/meshes/gripper_body.stl" scale="0.0254 0.0254 0.0254"/>
      </geometry>
      <origin rpy="3.141592653 0 0" xyz="0 0 0.017"/>
      <material name="gripper:21_color">
        <color rgba="0.752941 0.752941 0.752941 1"/>
      </material>
    </visual>
    <inertial>
      <mass value="0.222800943405"/>
      <inertia ixx="0.000113884956016" ixy="0.0" ixz="0.0" iyy="0.000132512764251" iyz="-4.2661207134e-07" izz="9.078477651e-05"/>
      <origin rpy="3.141592653 0 0" xyz="0 0 0.013255"/>
    </inertial>
    <collision>
      <geometry>
        <mesh filename="package://abby_description/meshes/gripper_body.stl" scale="0.0254 0.0254 0.0254"/>
      </geometry>
      <origin rpy="3.141592653 0 0" xyz="0 0 0.017"/>
    </collision>
  </link>
  <link name="gripper_jaw_1">
    <visual>
      <geometry>
        <mesh filename="package://abby_description/meshes/gripper_jaw.stl" scale="0.0254 0.0254 0.0254"/>
      </geometry>
      <origin rpy="1.570796327 0 0" xyz="0 0.0127 0"/>
      <material name="gripper jaw:11_color">
        <color rgba="0.752941 0.752941 0.752941 1"/>
      </material>
    </visual>
    <inertial>
      <mass value="0.00921754126924"/>
      <inertia ixx="2.06132039615e-06" ixy="3.0409666492e-07" ixz="0.0" iyy="8.2195587923e-07" iyz="0.0" izz="1.7163745324e-06"/>
      <origin rpy="0 0 0" xyz="0.006162341 0.03123184 0.0127004023"/>
    </inertial>
    <collision>
      <geometry>
        <mesh filename="package://abby_description/meshes/gripper_jaw.stl" scale="0.0254 0.0254 0.0254"/>
      </geometry>
      <origin rpy="1.570796327 0 0" xyz="0 0.0127 0"/>
    </collision>
  </link>
  <link name="gripper_jaw_2">
    <visual>
      <geometry>
        <mesh filename="package://abby_description/meshes/gripper_jaw.stl" scale="0.0254 0.0254 0.0254"/>
      </geometry>
      <origin rpy="1.570796327 0 0" xyz="0 0.0127 0"/>
      <material name="gripper jaw:11_color">
        <color rgba="0.752941 0.752941 0.752941 1"/>
      </material>
    </visual>
    <inertial>
      <mass value="0.00921754126924"/>
      <inertia ixx="2.06132039615e-06" ixy="3.0409666492e-07" ixz="0.0" iyy="8.2195587923e-07" iyz="0.0" izz="1.7163745324e-06"/>
      <origin rpy="0 0 0" xyz="0.006162341 0.03123184 0.0127004023"/>
    </inertial>
    <collision>
      <geometry>
        <mesh filename="package://abby_description/meshes/gripper_jaw.stl" scale="0.0254 0.0254 0.0254"/>
      </geometry>
      <origin rpy="1.570796327 0 0" xyz="0 0.0127 0"/>
    </collision>
  </link>
  <joint name="gripper_jaw_1" type="prismatic">
    <parent link="gripper_body"/>
    <child link="gripper_jaw_1"/>
    <origin rpy="0 0 3.14159265359" xyz="0 0 0.062"/>
    <limit effort="1" lower="-0.039" upper="-0.03" velocity="1"/>
  </joint>
  <joint name="gripper_jaw_2" type="prismatic">
    <parent link="gripper_body"/>
    <child link="gripper_jaw_2"/>
    <origin rpy="0 0 0" xyz="0 0 0.062"/>
    <limit effort="1" lower="-0.039" upper="-0.03" velocity="1"/>
  </joint>
  <joint name="frame_arm" type="fixed">
    <parent link="frame1"/>
    <child link="irb_120_base_link"/>
    <origin rpy="3.1415926535 1.57079632679 0" xyz="0.046 -0.55 .75"/>
  </joint>
  <joint name="arm_gripper" type="fixed">
    <parent link="irb_120_link_6"/>
    <child link="gripper_body"/>
    <origin rpy="0 0 -0.7" xyz="0 0 0"/>
  </joint>
</robot>
